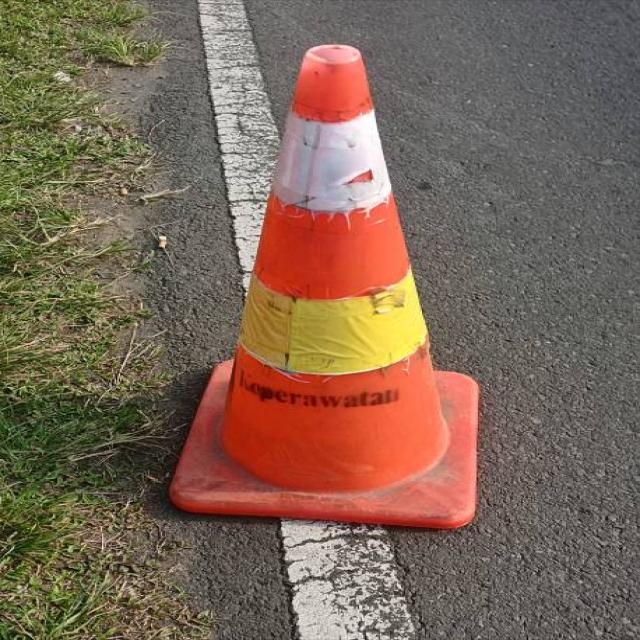Traffic Cone: (142, 19, 529, 560)
